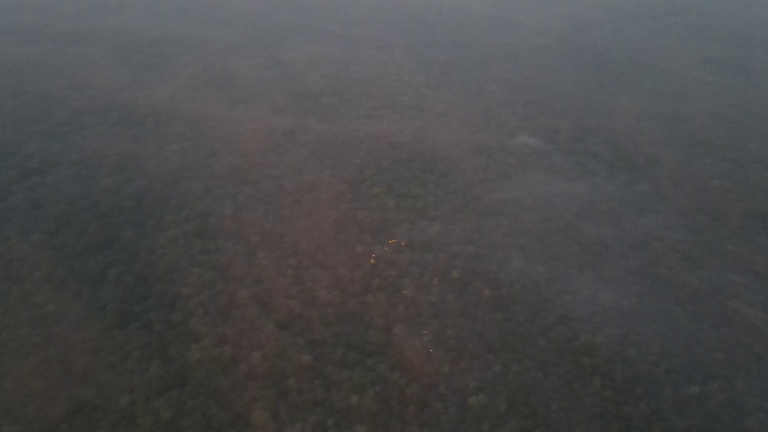fire: (366, 233, 412, 267), (426, 345, 437, 357)
smoke: (502, 133, 547, 154)
